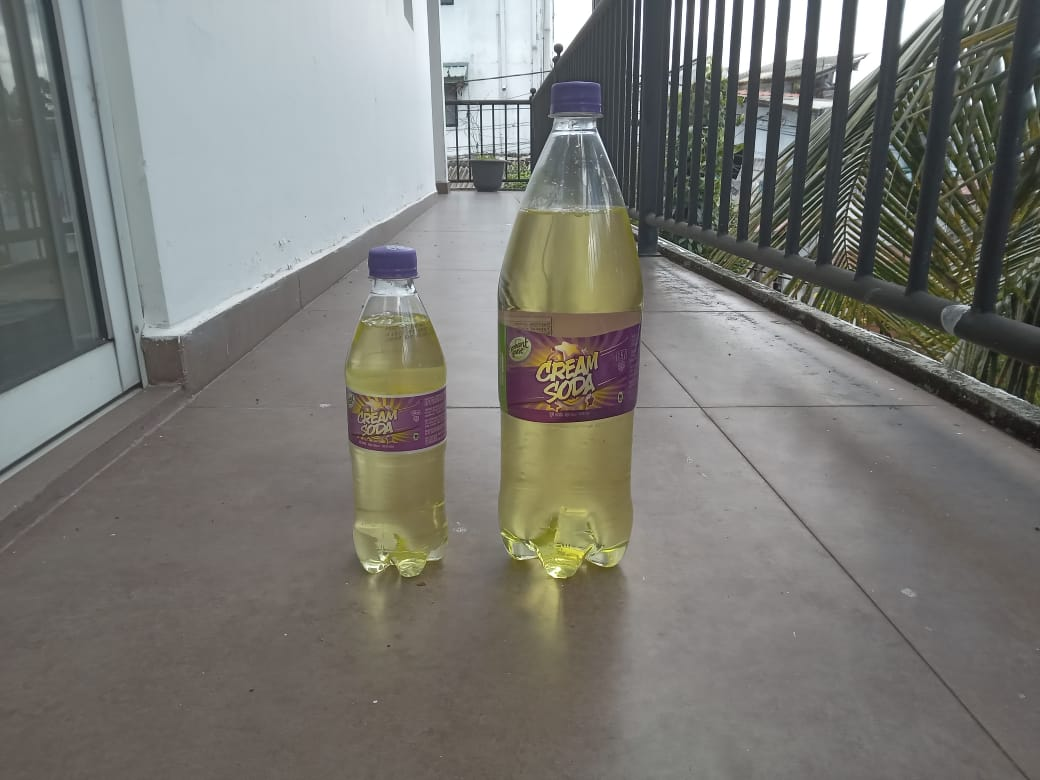L: (499, 78, 641, 577)
S: (344, 249, 452, 581)
